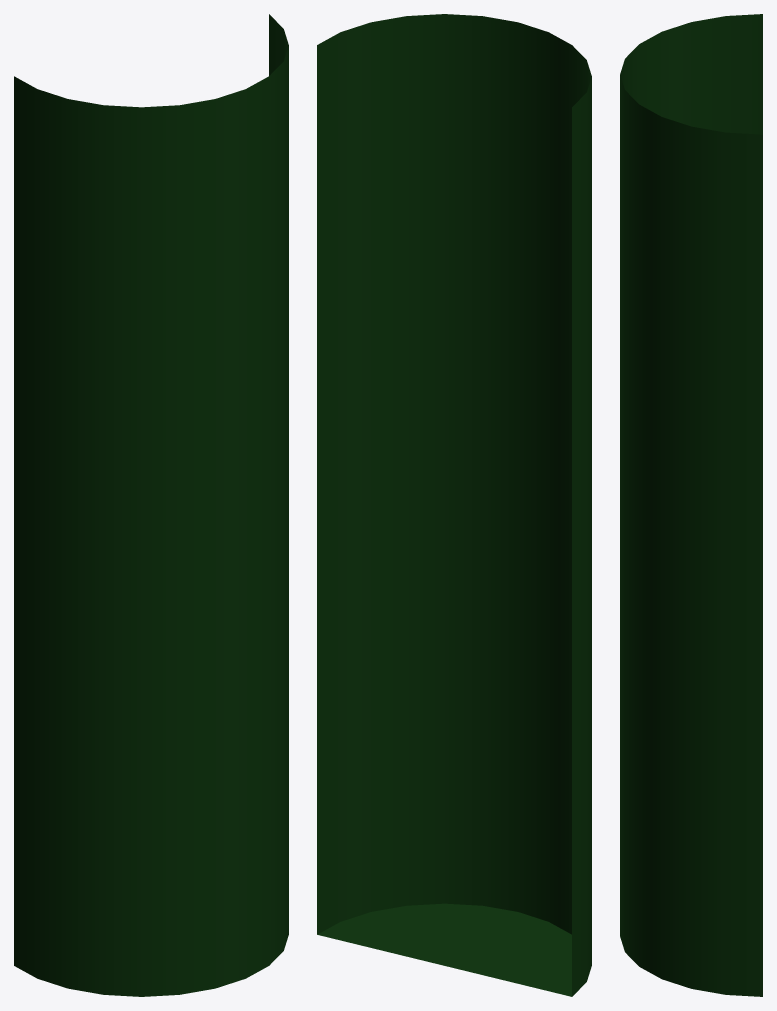
File: original-30.obj
3 views of the same model, side by side, from view 1: azimuth 30°, elevation 25°; view 2: azimuth 150°, elevation 25°; view 3: azimuth 270°, elevation 25° (orthographic). The views are drawn at different scales.
Visible parts, largest first — view 1: Radius7/Radius/mesh1/mesh1-geometry#mesh1-geometry; view 2: Radius7/Radius/mesh1/mesh1-geometry#mesh1-geometry; view 3: Radius7/Radius/mesh1/mesh1-geometry#mesh1-geometry.
Part boxes in pixels (x1,y1,x2,y2): Radius7/Radius/mesh1/mesh1-geometry#mesh1-geometry: [14, 14, 288, 996]; Radius7/Radius/mesh1/mesh1-geometry#mesh1-geometry: [317, 14, 591, 996]; Radius7/Radius/mesh1/mesh1-geometry#mesh1-geometry: [620, 14, 762, 996].
Size of the model in its own units: 0.0101 by 0.0338 by 0.00506.
